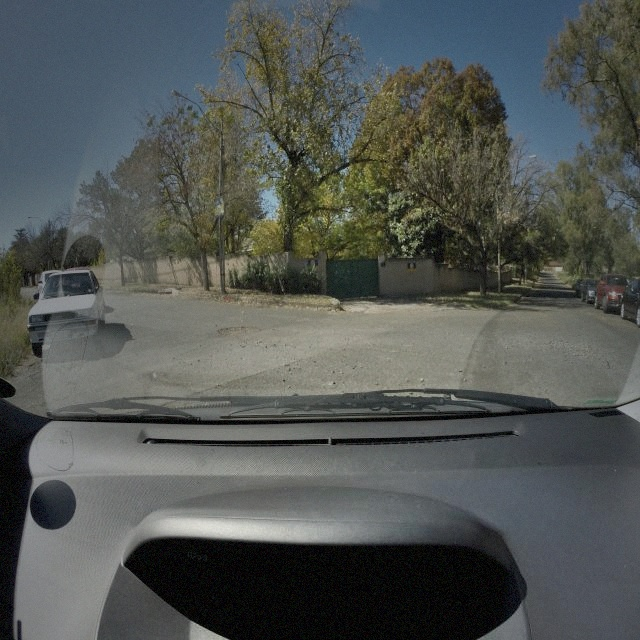pothole: (216, 321, 264, 340)
